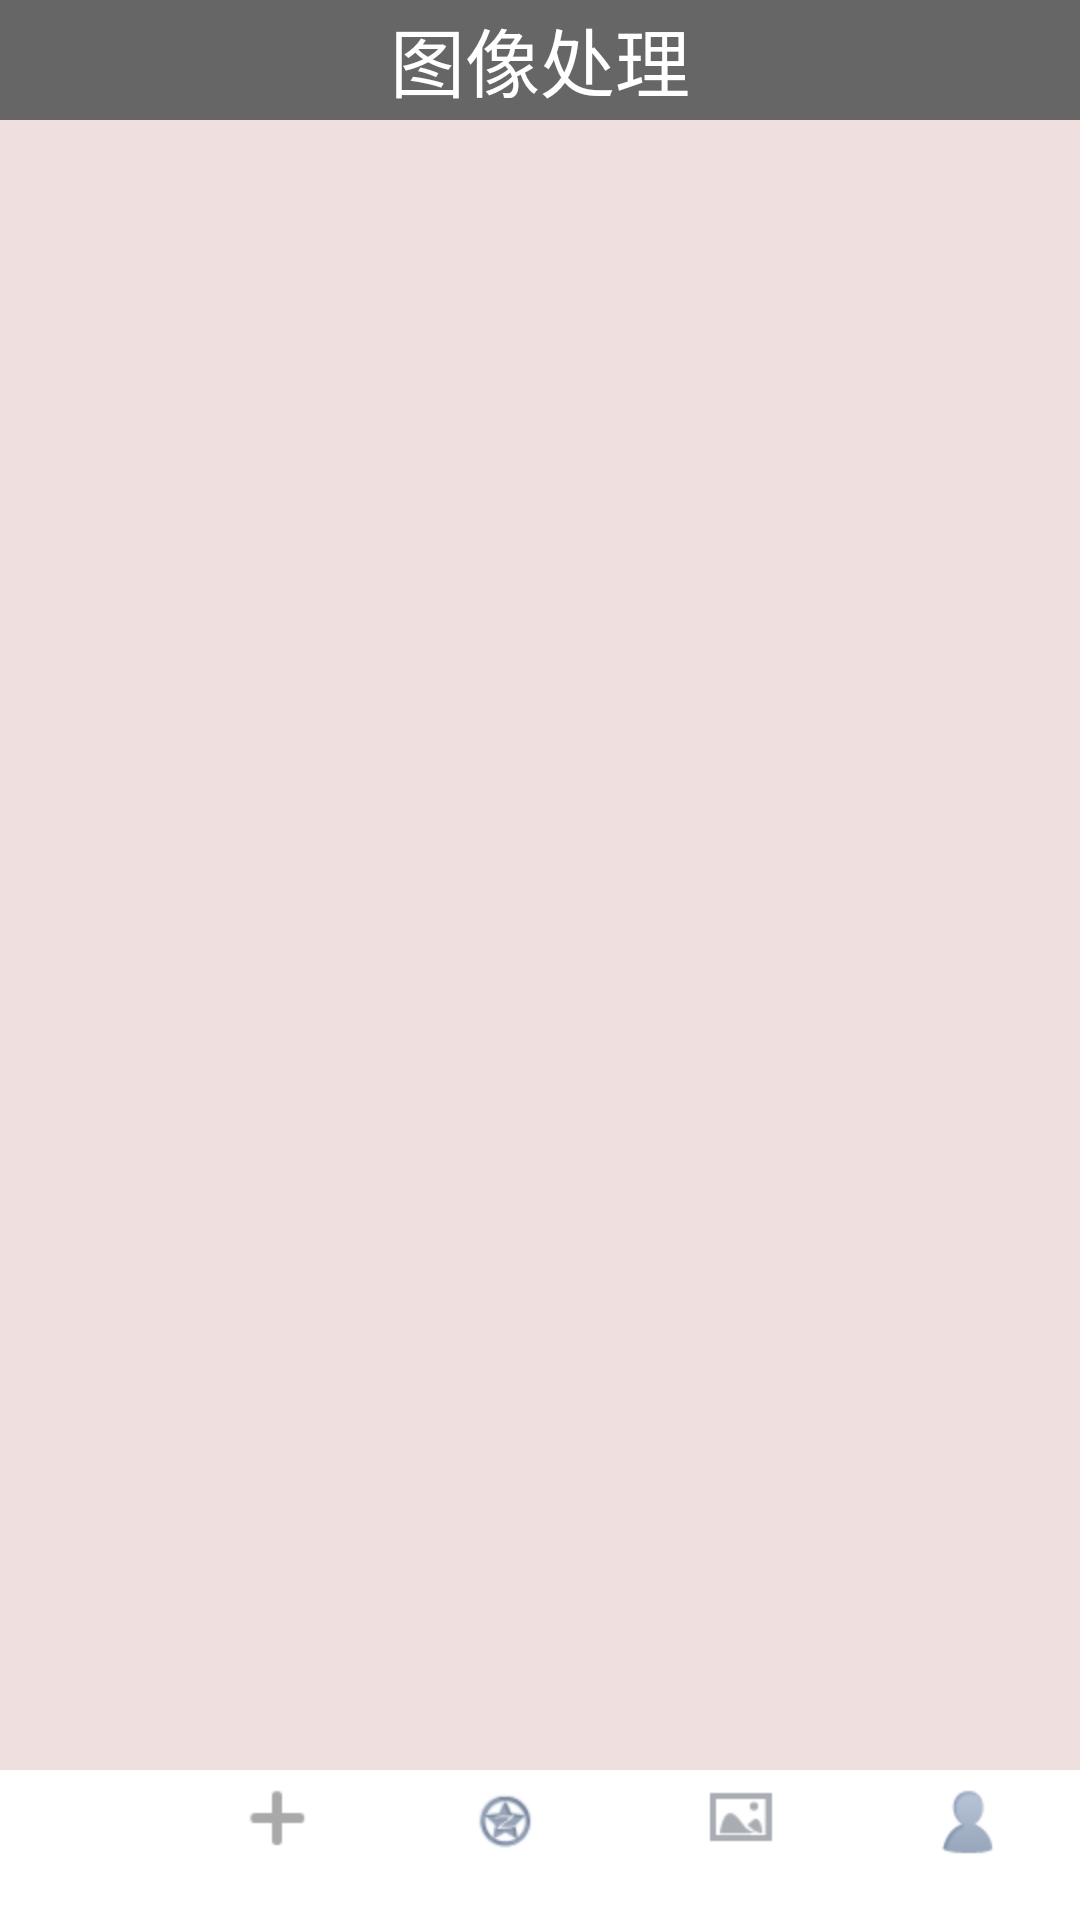

Named icons in this screenshot (1080px x 1920px) and their bounding boxes, (x1, y1, x2, y2):
frame nor: (710, 1793, 772, 1841)
increase nor: (250, 1791, 305, 1845)
person nor: (942, 1791, 993, 1854)
